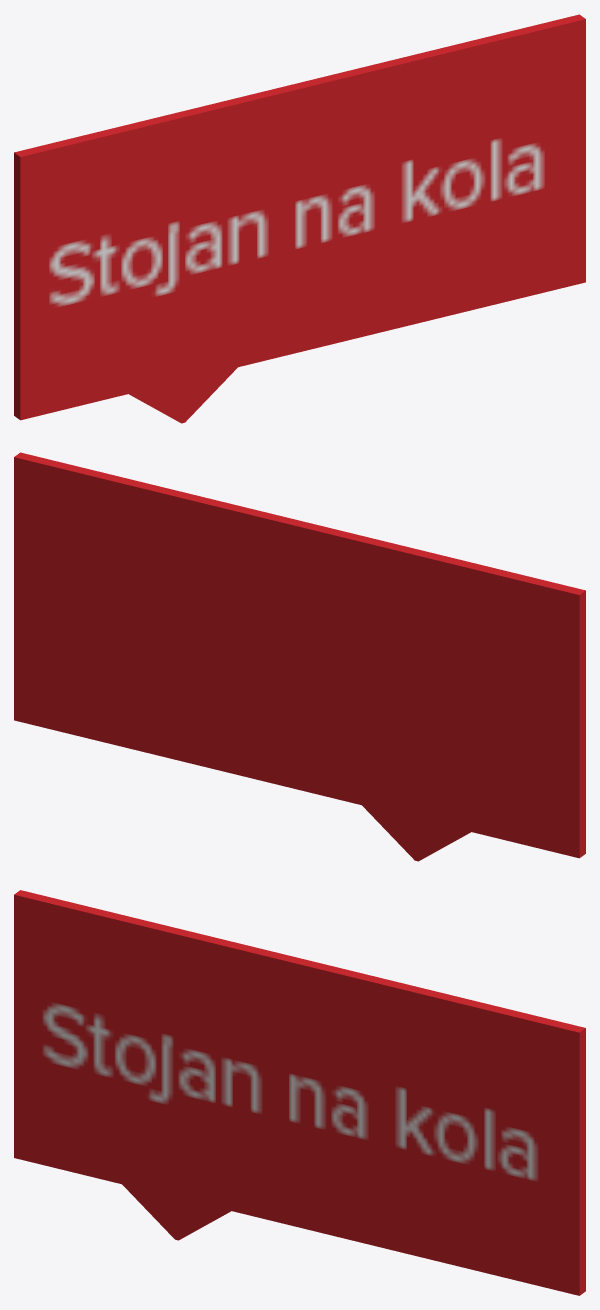
Rendered from sign2.glb.
The picture shows the model from 3 angles, top to bottom: view 1: azimuth 30°, elevation 25°; view 2: azimuth 150°, elevation 25°; view 3: azimuth 330°, elevation 25°; orthographic projection.
Parts seen in each view (by area): view 1: sign-2-kola; view 2: sign-2-kola; view 3: sign-2-kola.
Part boxes in pixels (<box>): sign-2-kola: <box>14,14,585,423</box>; sign-2-kola: <box>14,452,585,861</box>; sign-2-kola: <box>14,890,585,1295</box>.
Size of the model in its own units: 1.59 by 0.8188 by 0.0312.
Materials: 1 (1 with a texture image).
